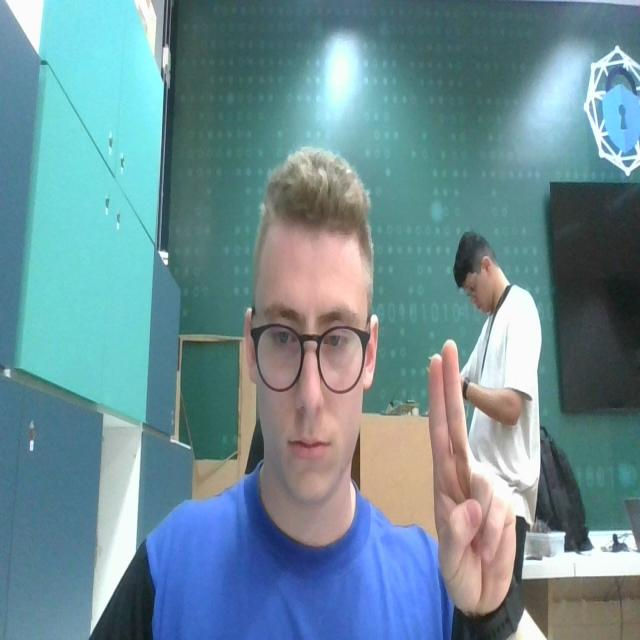U: (423, 329, 520, 617)
